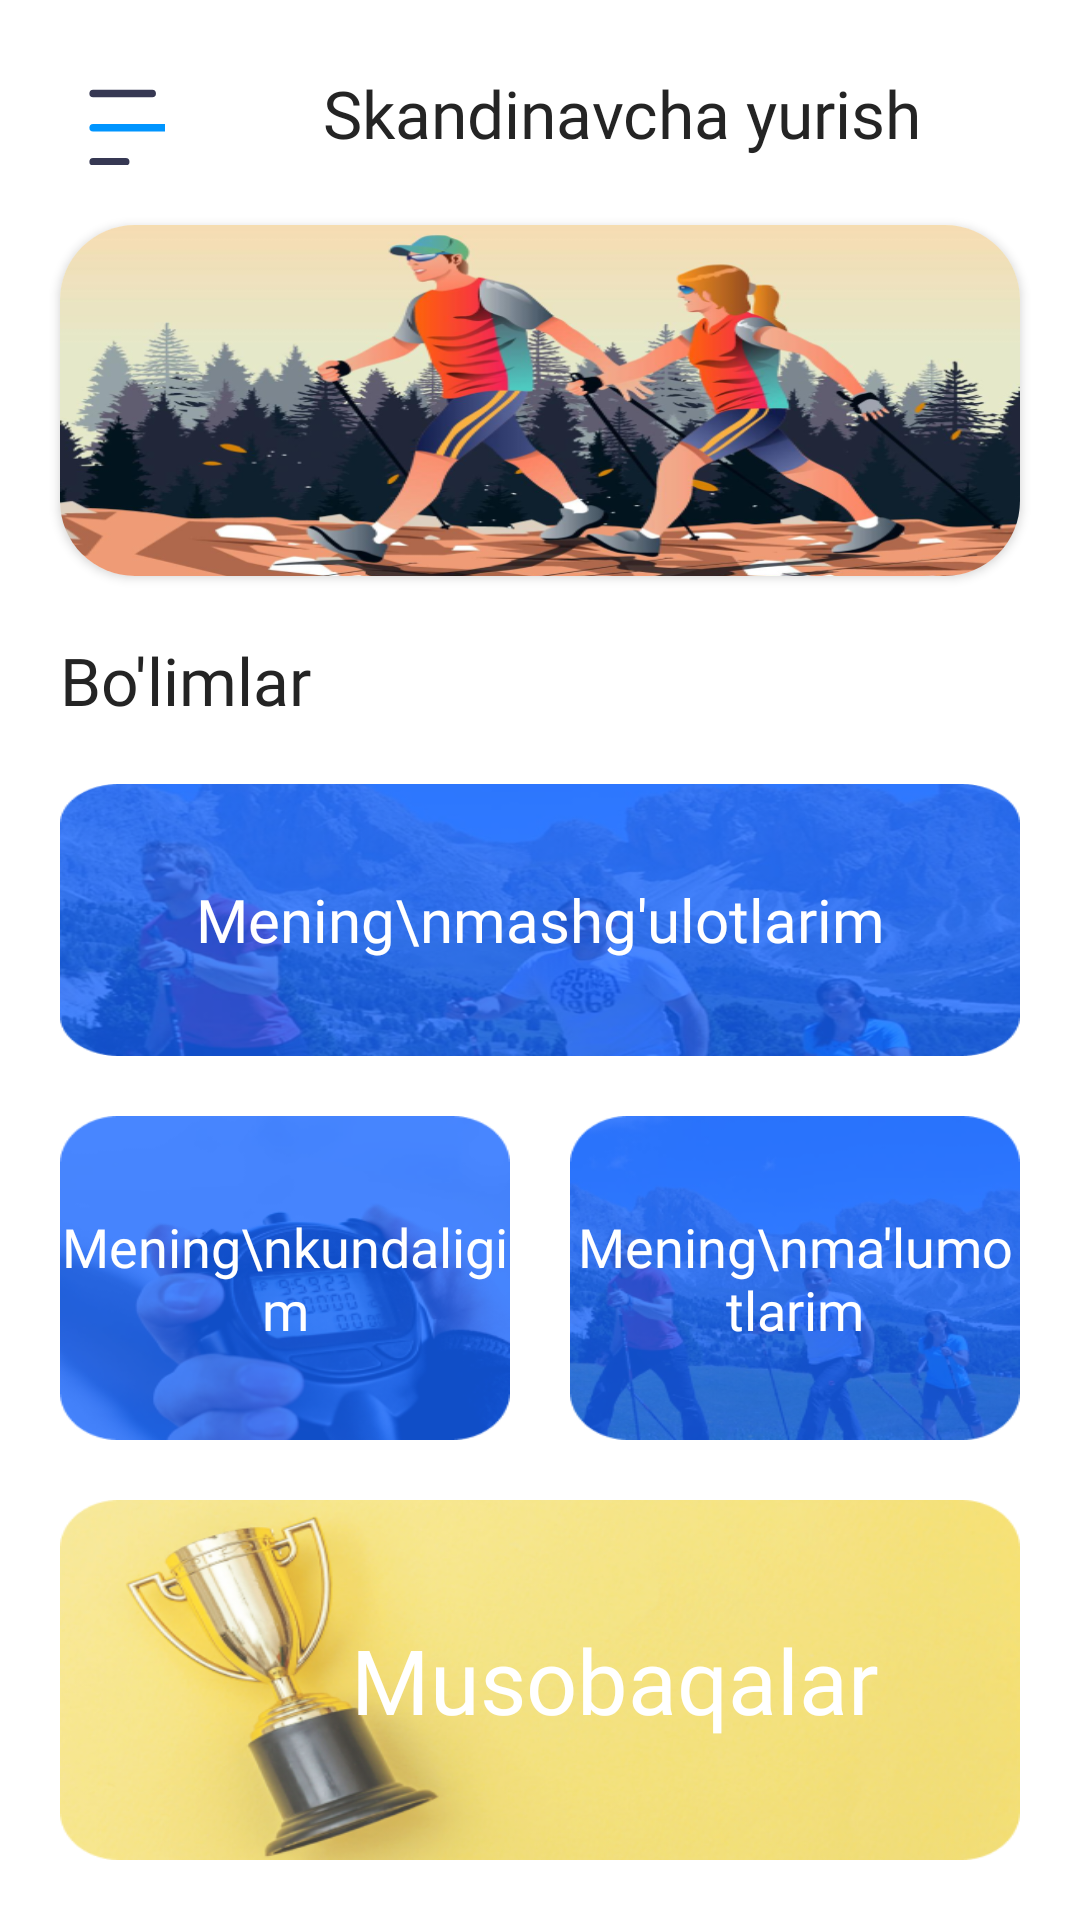

Where icons sit on this 1080px×1920px app screen, as {"x1": x1, "y1": y1, "x2": x2, "y2": y2}:
drawer menu: {"x1": 89, "y1": 89, "x2": 165, "y2": 165}
